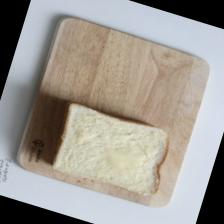bread: (44, 100, 174, 202)
